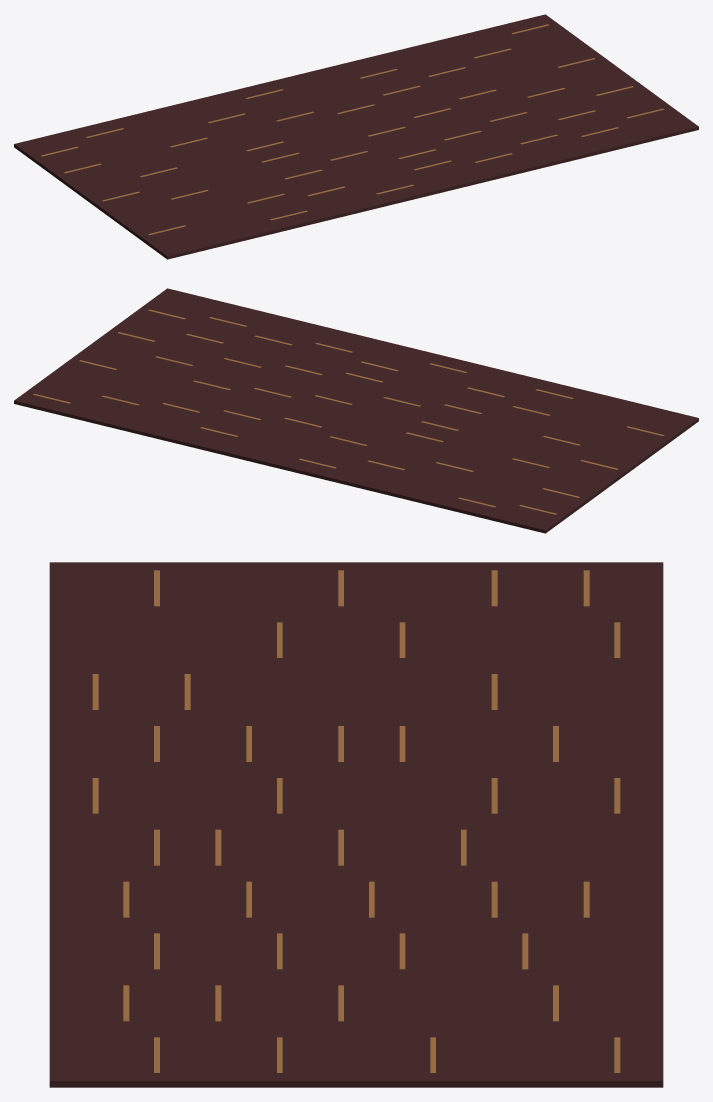
The model's file is CorridorGround.fbx.
The picture shows the model from 3 angles, top to bottom: view 1: azimuth 30°, elevation 25°; view 2: azimuth 150°, elevation 25°; view 3: azimuth 270°, elevation 25°; orthographic projection. The views are drawn at different scales.
Parts seen in each view (by area): view 1: CorridorGround; view 2: CorridorGround; view 3: CorridorGround.
Part boxes in pixels (x1,y1,x2,y2): CorridorGround: (14,14,698,259); CorridorGround: (14,288,698,533); CorridorGround: (49,562,663,1087).
Size of the model in its own units: 5.12 by 0.03 by 2.56.
